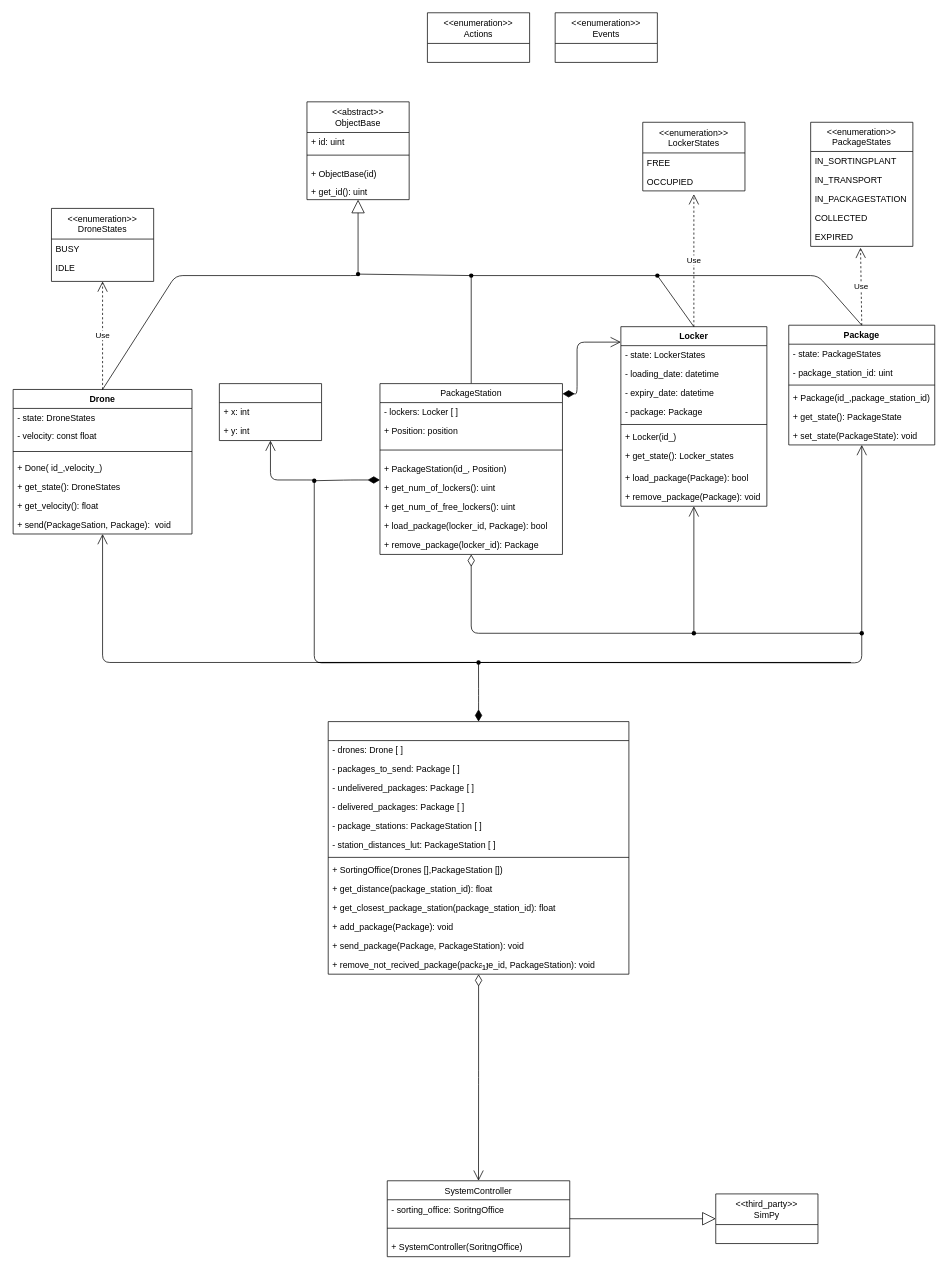
The diagram is 948 pixels wide and 1272 high, and some of its shapes have lost their labels. Here are the shapes that lost their labels. From the top down, the box of each, then its label:
(219, 383, 322, 441): Position
(327, 721, 629, 974): SoritngOffice
